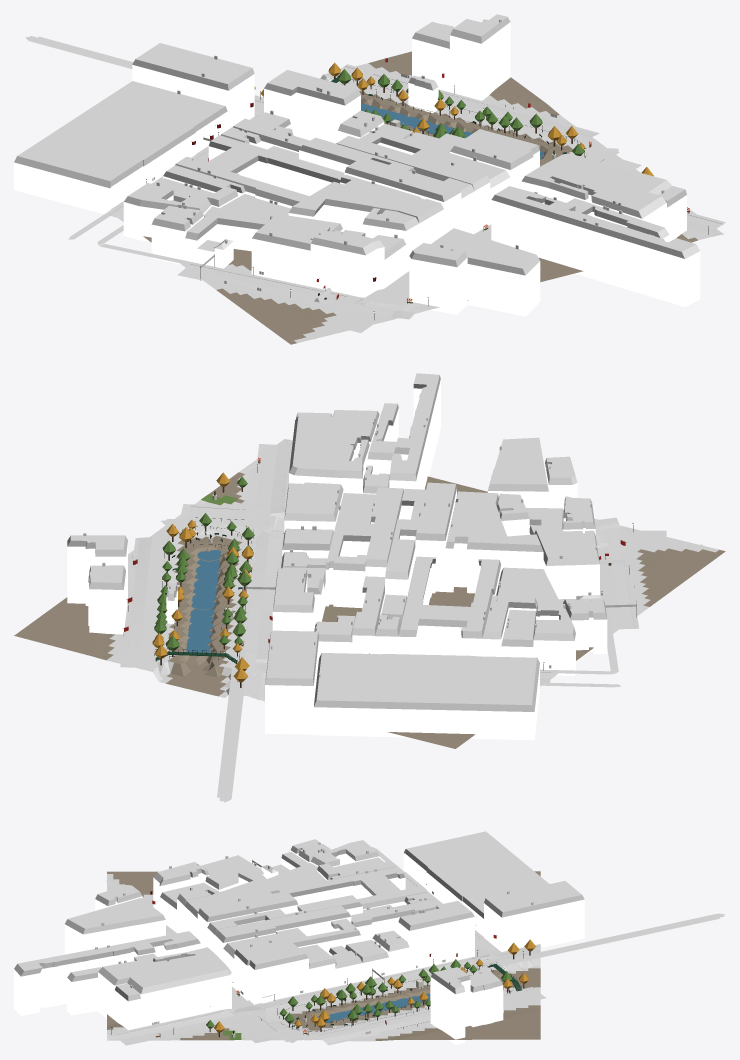
File: zone_B3.glb
3 views of the same model, one above another, from view 1: azimuth 30°, elevation 25°; view 2: azimuth 150°, elevation 25°; view 3: azimuth 270°, elevation 25° (orthographic). The views are drawn at different scales.
Visible parts, largest first — view 1: zone_B3_batiments, zone_B3_terrain, zone_B3_sol_NOCOL, zone_B3_decor_NOCOL, zone_B3_eau; view 2: zone_B3_batiments, zone_B3_sol_NOCOL, zone_B3_terrain, zone_B3_decor_NOCOL, zone_B3_eau; view 3: zone_B3_batiments, zone_B3_sol_NOCOL, zone_B3_terrain, zone_B3_decor_NOCOL, zone_B3_eau.
Boxes of the visible parts, bbox=[...] form: zone_B3_batiments: bbox=[14, 14, 700, 316]; zone_B3_terrain: bbox=[109, 51, 723, 344]; zone_B3_sol_NOCOL: bbox=[26, 36, 725, 339]; zone_B3_decor_NOCOL: bbox=[146, 62, 708, 319]; zone_B3_eau: bbox=[361, 103, 544, 159]; zone_B3_batiments: bbox=[67, 373, 607, 740]; zone_B3_sol_NOCOL: bbox=[120, 444, 702, 802]; zone_B3_terrain: bbox=[14, 439, 725, 748]; zone_B3_decor_NOCOL: bbox=[127, 464, 633, 687]; zone_B3_eau: bbox=[186, 550, 220, 656]; zone_B3_batiments: bbox=[14, 831, 584, 1044]; zone_B3_sol_NOCOL: bbox=[106, 847, 725, 1045]; zone_B3_terrain: bbox=[107, 871, 540, 1041]; zone_B3_decor_NOCOL: bbox=[111, 884, 535, 1037]; zone_B3_eau: bbox=[318, 993, 430, 1022].
Size of what is drawn, in the model's own units: 235 by 32.85 by 350.
